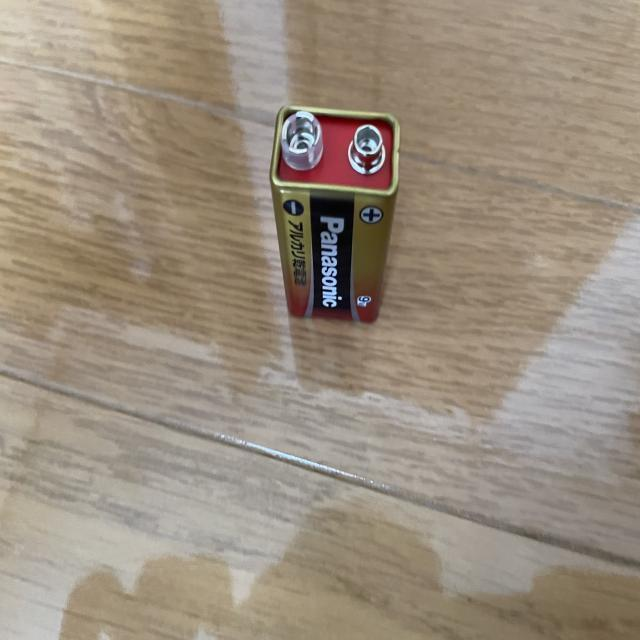9V: (270, 104, 399, 325)
